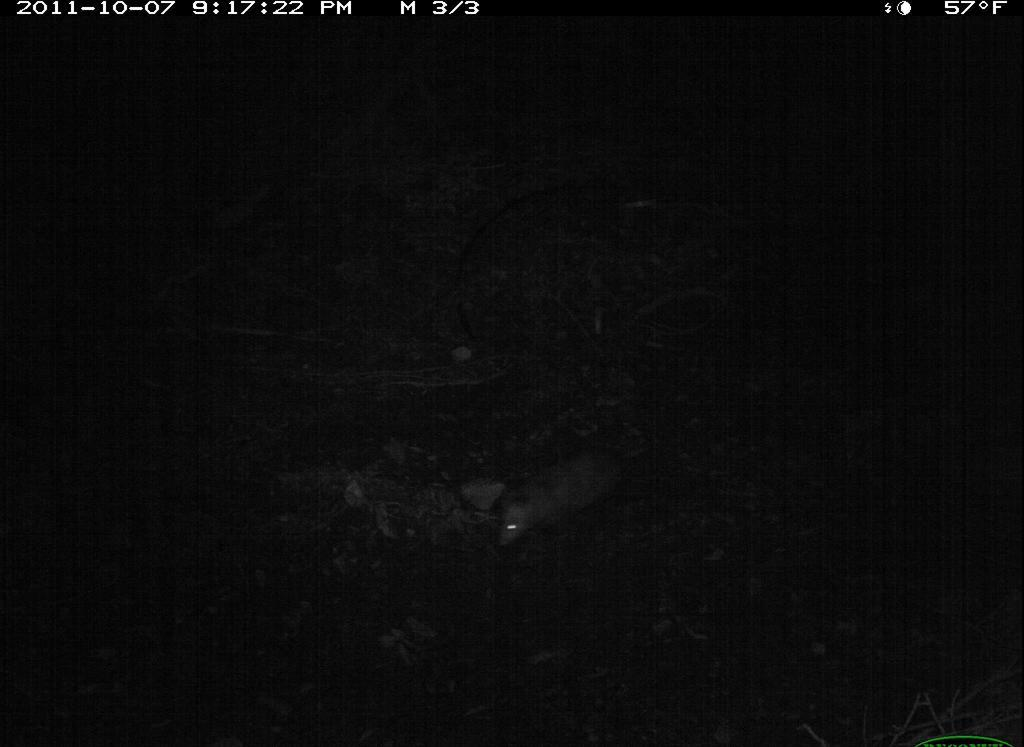opossum: (482, 436, 657, 560)
